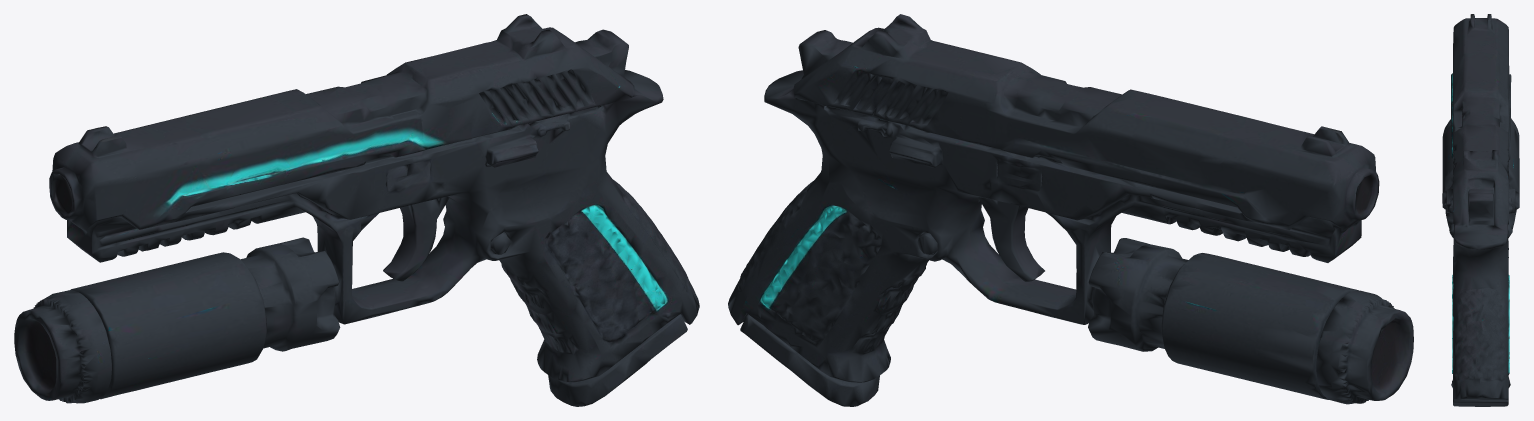
File: bzPistol.ee15a8b3.glb
3 views of the same model, side by side, from view 1: azimuth 30°, elevation 25°; view 2: azimuth 150°, elevation 25°; view 3: azimuth 270°, elevation 25° (orthographic). The views are drawn at different scales.
Bounding box in the file's own units: 1.9 × 1.06 × 0.2999.
1 material, 1 textured.
